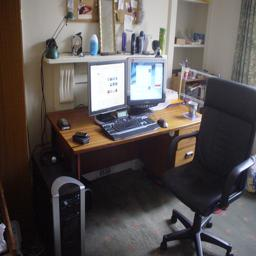chair: (166, 116, 256, 256)
tvmonitor: (171, 86, 251, 186), (216, 84, 256, 169)
